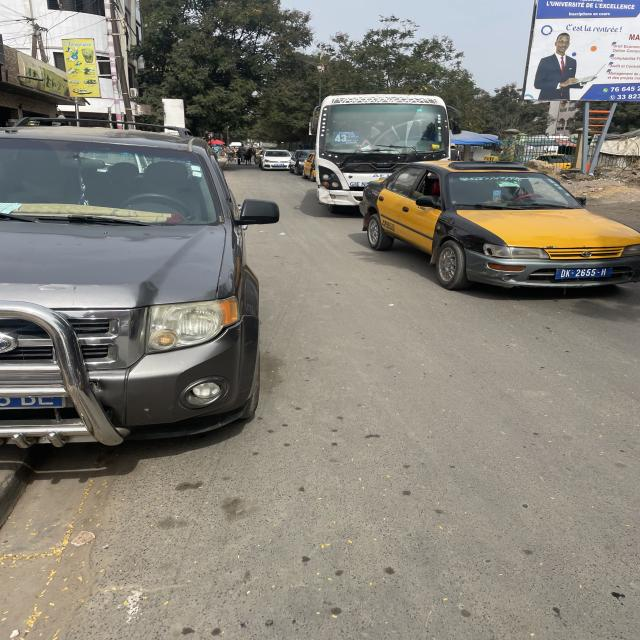bus tata: (316, 96, 453, 210)
charette: (239, 147, 256, 166)
particulier: (1, 120, 279, 450), (261, 151, 293, 171), (289, 151, 314, 176)
taxi: (361, 162, 640, 290), (536, 155, 574, 170), (303, 154, 318, 182)
